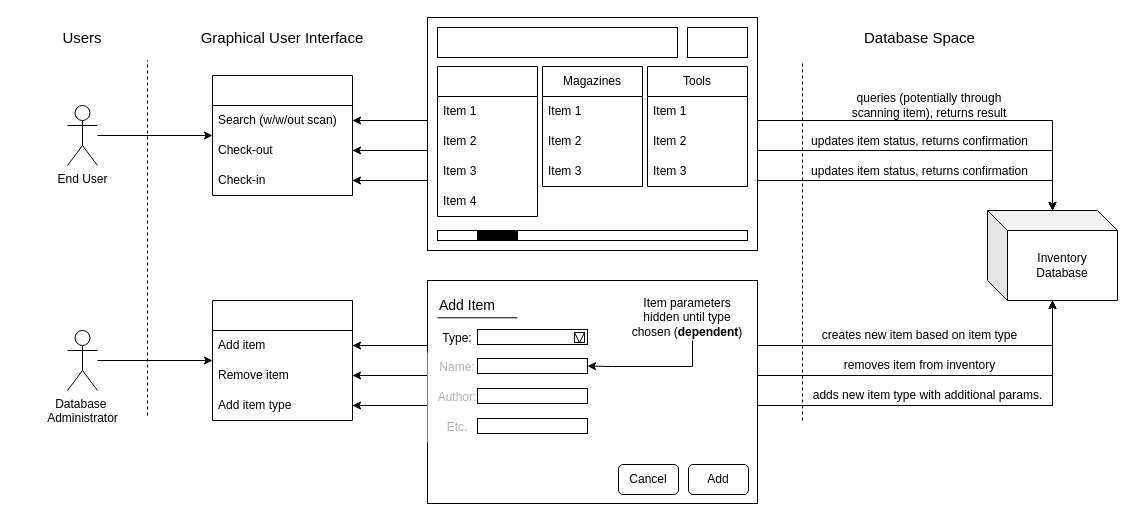
The diagram is 1135 pixels wide and 521 high, and some of its shapes have lost their labels. Each missing label, with the box of its shape:
Admin. functions: (212, 300, 352, 420)
Books: (436, 66, 538, 216)
End-user functions: (212, 74, 352, 196)
Search: (686, 26, 748, 58)
